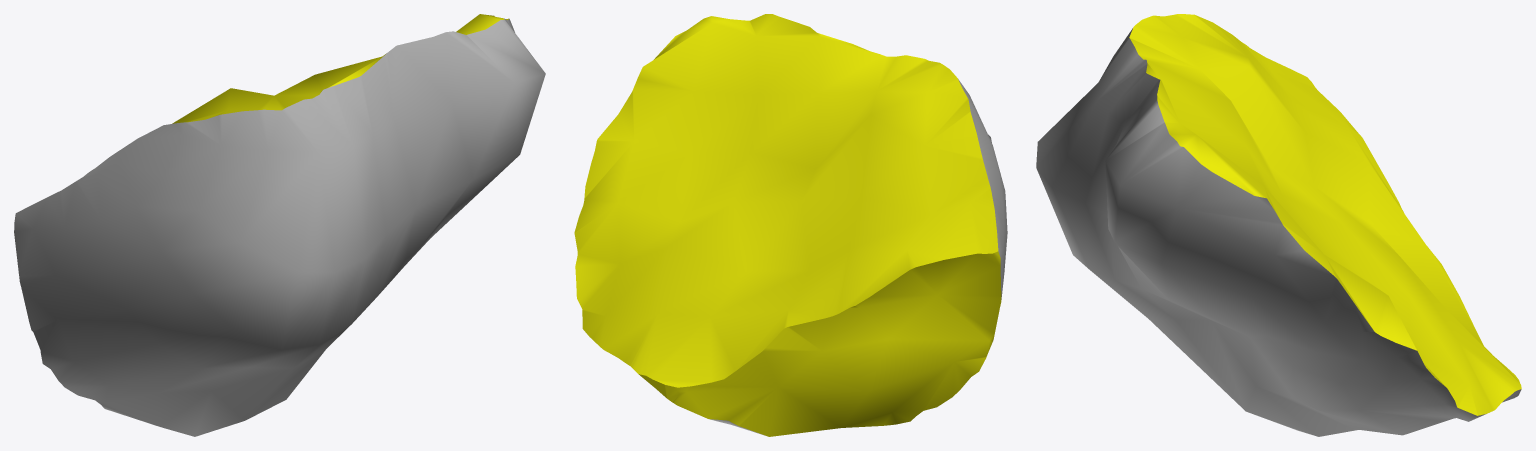
Rendered from Rock_01_03.fbx.
3 renders of one model, left to right at view 1: azimuth 30°, elevation 25°; view 2: azimuth 150°, elevation 25°; view 3: azimuth 270°, elevation 25°, orthographic. The views are drawn at different scales.
Visible parts, largest first — view 1: shard3; view 2: shard3; view 3: shard3.
Part boxes in pixels (box(x1,y1,x2,y2)): shard3: box(14, 14, 545, 436); shard3: box(574, 14, 1007, 436); shard3: box(1036, 14, 1521, 436).
Size of the model in its own units: 127 by 103 by 112.
